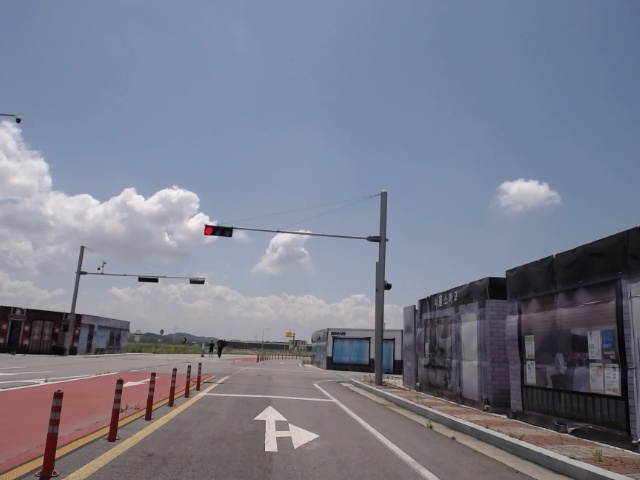red_3: (204, 225, 234, 238)
